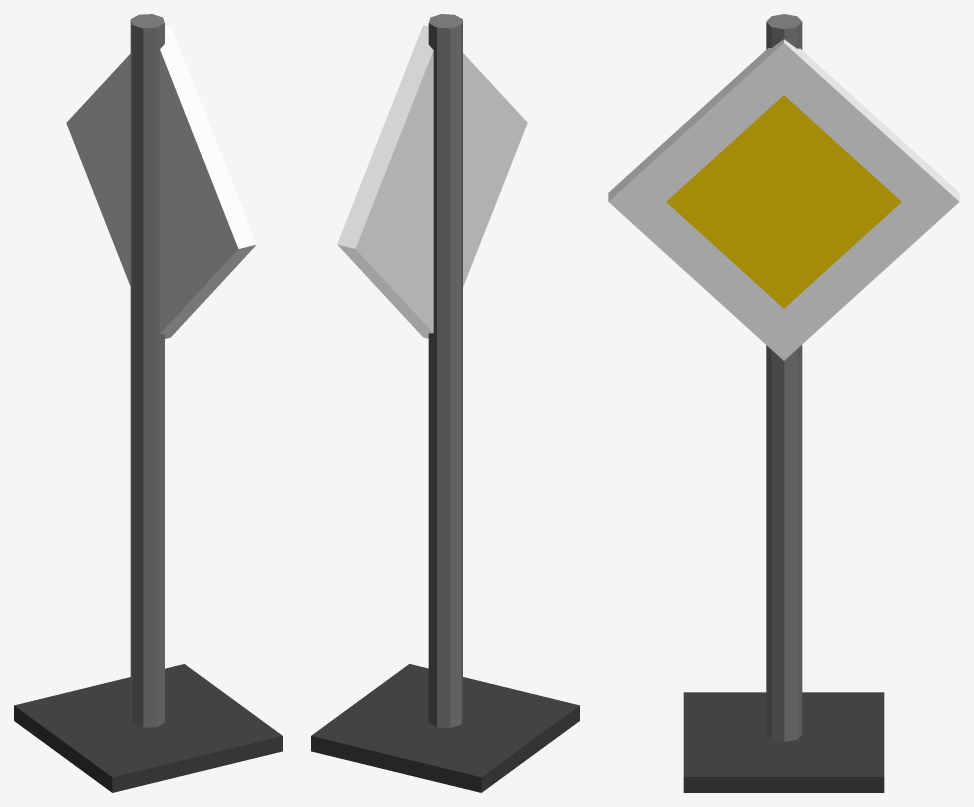
The model's file is traffic_Sign_02.fbx.
The picture shows the model from 3 angles, left to right: view 1: azimuth 30°, elevation 25°; view 2: azimuth 150°, elevation 25°; view 3: azimuth 270°, elevation 25°; orthographic projection.
Visible parts, largest first — view 1: traffic_Sign_02; view 2: traffic_Sign_02; view 3: traffic_Sign_02.
Boxes of the visible parts, <box> form: traffic_Sign_02: <box>14,14,282,792</box>; traffic_Sign_02: <box>311,14,579,792</box>; traffic_Sign_02: <box>608,14,959,792</box>.
Size of the model in its own units: 60.75 by 244 by 106.
